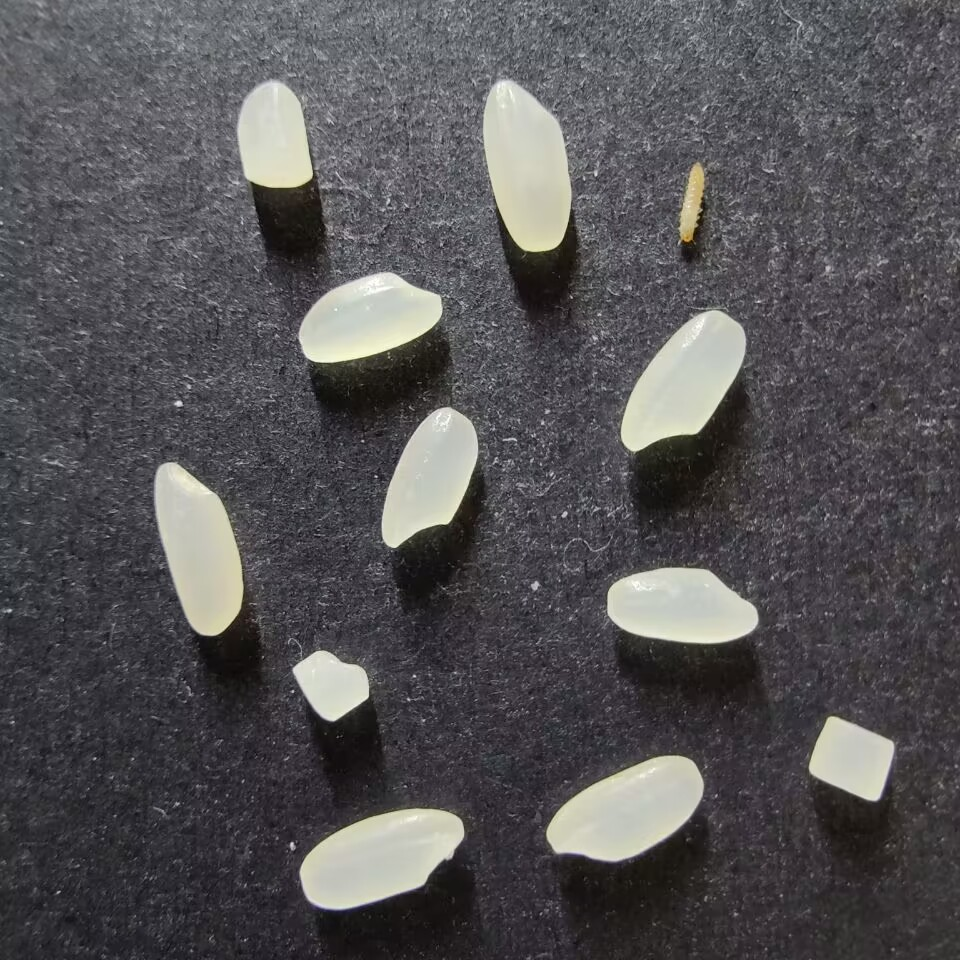broken: (236, 81, 312, 188), (808, 715, 894, 802), (291, 650, 370, 722)
others: (676, 159, 706, 247)
rice: (620, 310, 746, 452), (545, 755, 704, 862), (299, 808, 464, 910), (153, 462, 243, 636), (482, 80, 572, 253), (380, 407, 478, 548), (298, 272, 442, 363), (605, 566, 758, 643)
